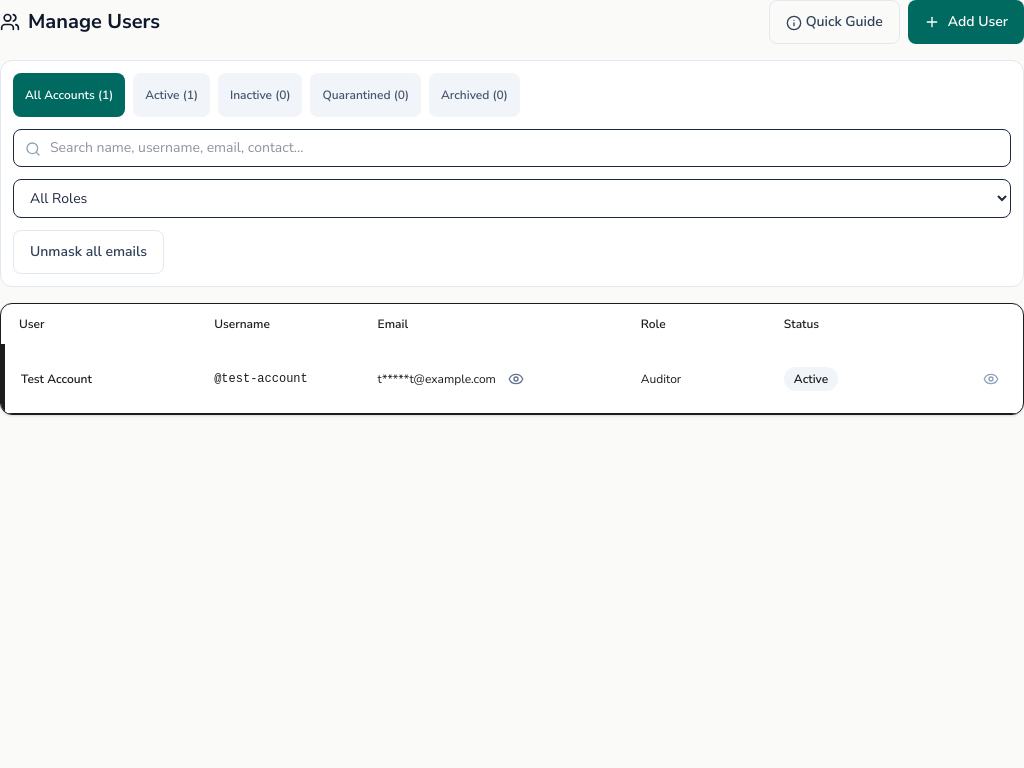
Test: editing user roles from account details › opens an unrecognized role without silently selecting a different role
What coordinates should you click on to do the following:
click the text "Test Account"
I would click on:
 (513, 378)
Its box is 3,344 -> 1023,412.
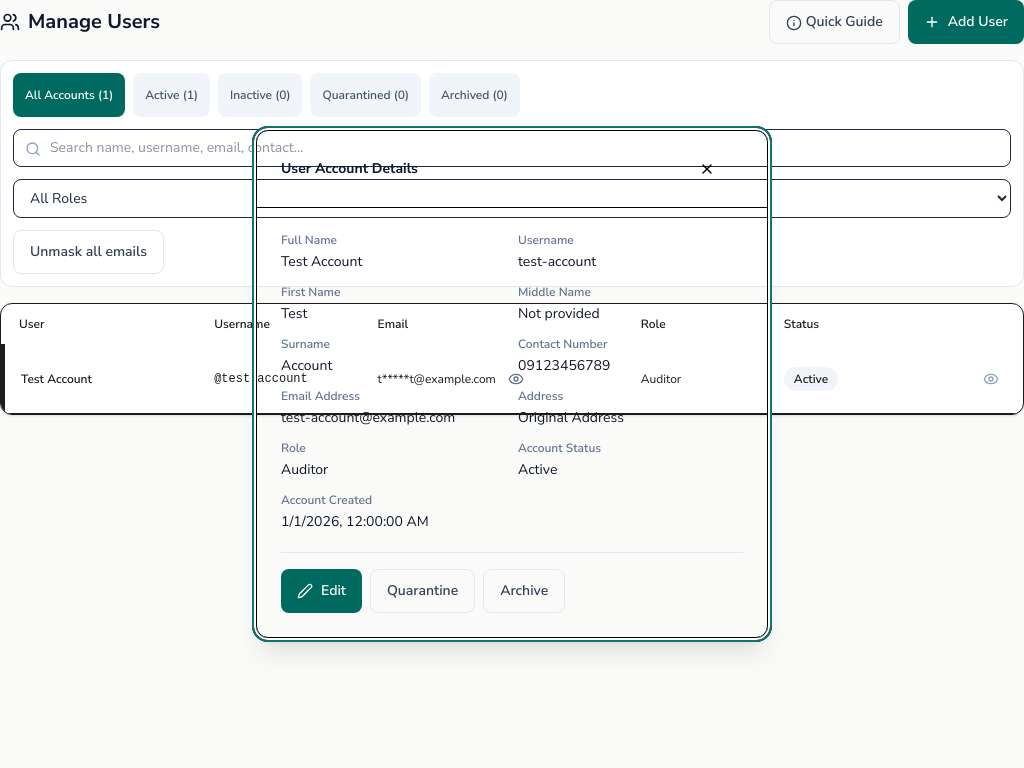
What coordinates should you click on to do the following:
click the button "Edit"
I would click on:
 (322, 591)
Its box is 281,569 -> 362,613.
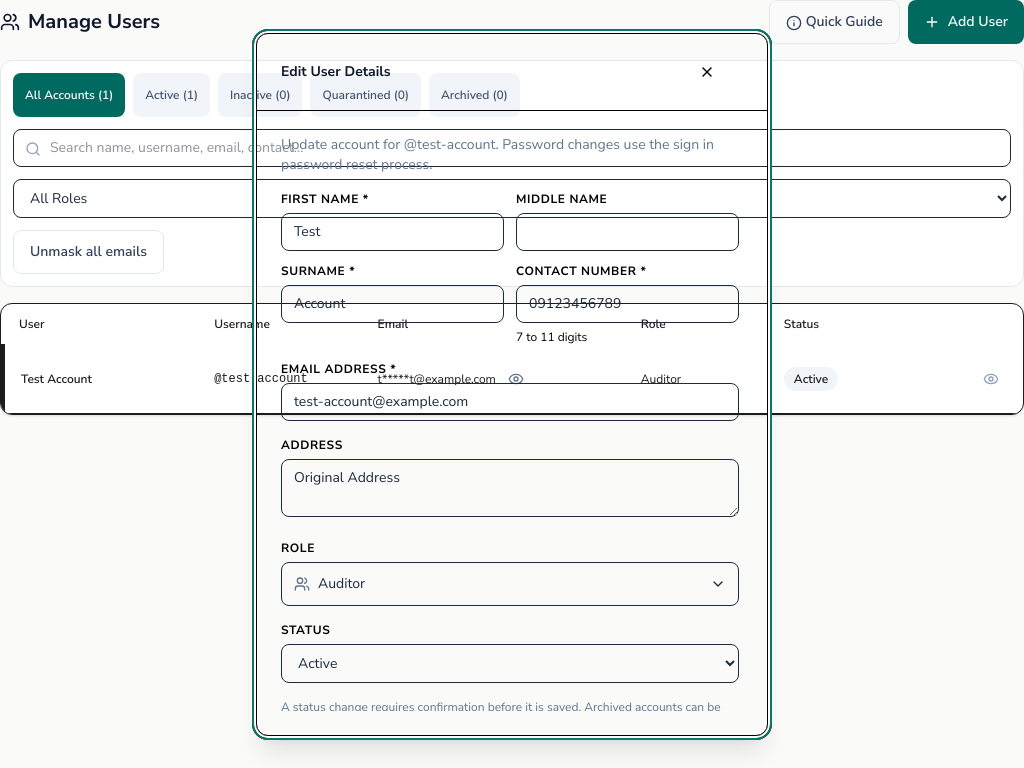
expect the button "Auditor" is shown: met, box 281,562 -> 739,606
expect the heading "Edit User Details" is shown: met, box 281,62 -> 390,82
expect the heading "User Account Details" is gone: met
